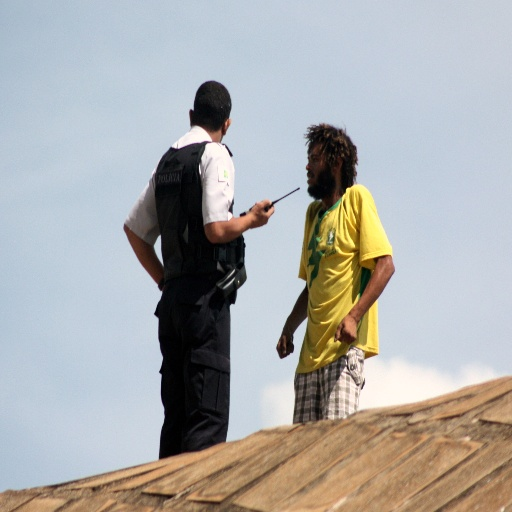hand: (237, 191, 279, 241), (333, 312, 358, 346), (275, 330, 294, 360)
